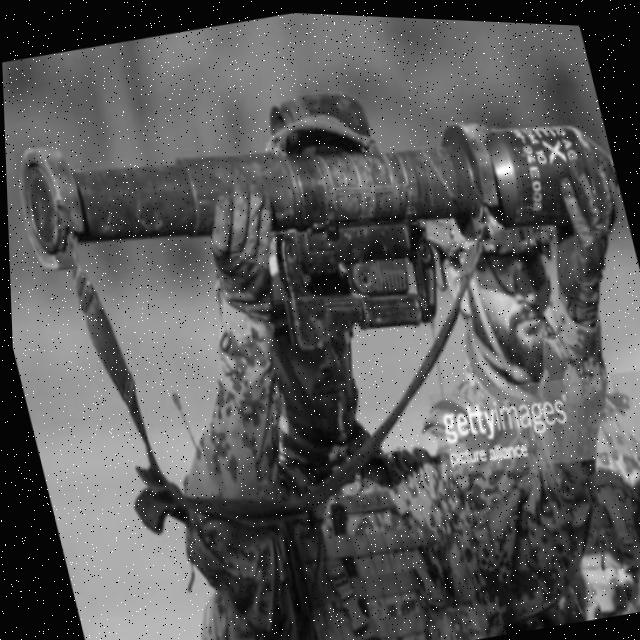rocket: (0, 10, 640, 427)
